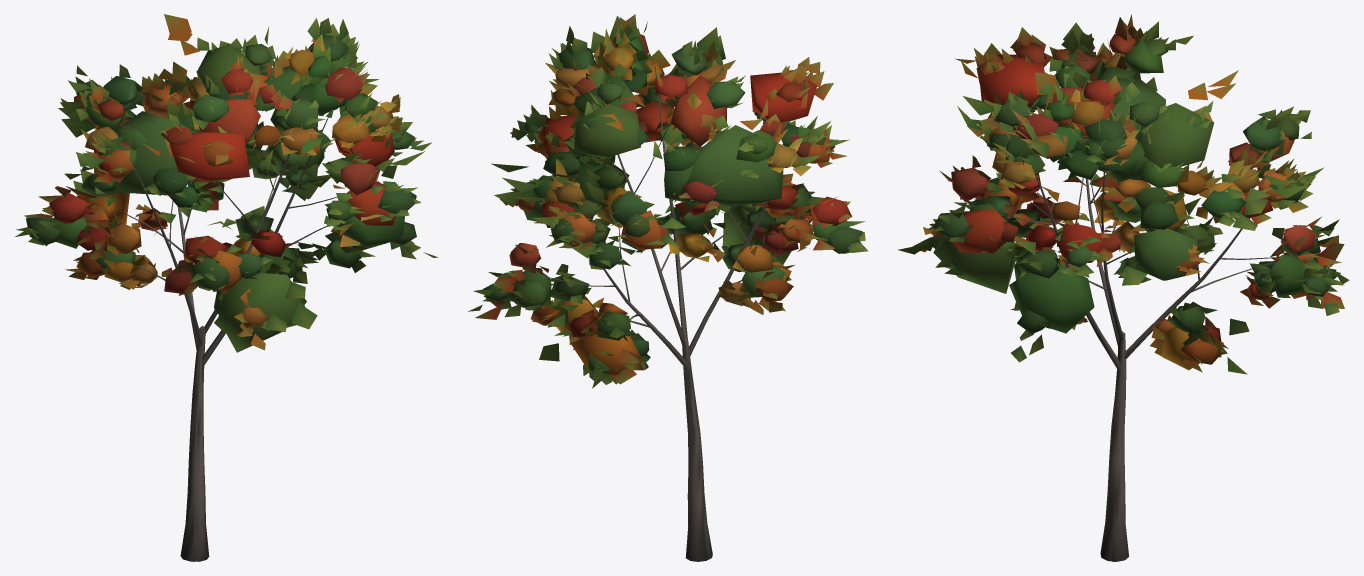
File: sugar-maple.glb
3 views of the same model, side by side, from view 1: azimuth 30°, elevation 25°; view 2: azimuth 150°, elevation 25°; view 3: azimuth 270°, elevation 25° (orthographic). The views are drawn at different scales.
Visible parts, largest first — view 1: sugar-maple, sugar-maple-lo; view 2: sugar-maple, sugar-maple-lo; view 3: sugar-maple, sugar-maple-lo.
Part boxes in pixels (bbox=[...]): sugar-maple: bbox=[15, 18, 437, 561]; sugar-maple-lo: bbox=[24, 14, 425, 561]; sugar-maple: bbox=[468, 14, 868, 561]; sugar-maple-lo: bbox=[475, 16, 849, 559]; sugar-maple: bbox=[920, 14, 1349, 561]; sugar-maple-lo: bbox=[898, 22, 1344, 561].
Size of the model in its own units: 13.87 by 17.29 by 13.63.
